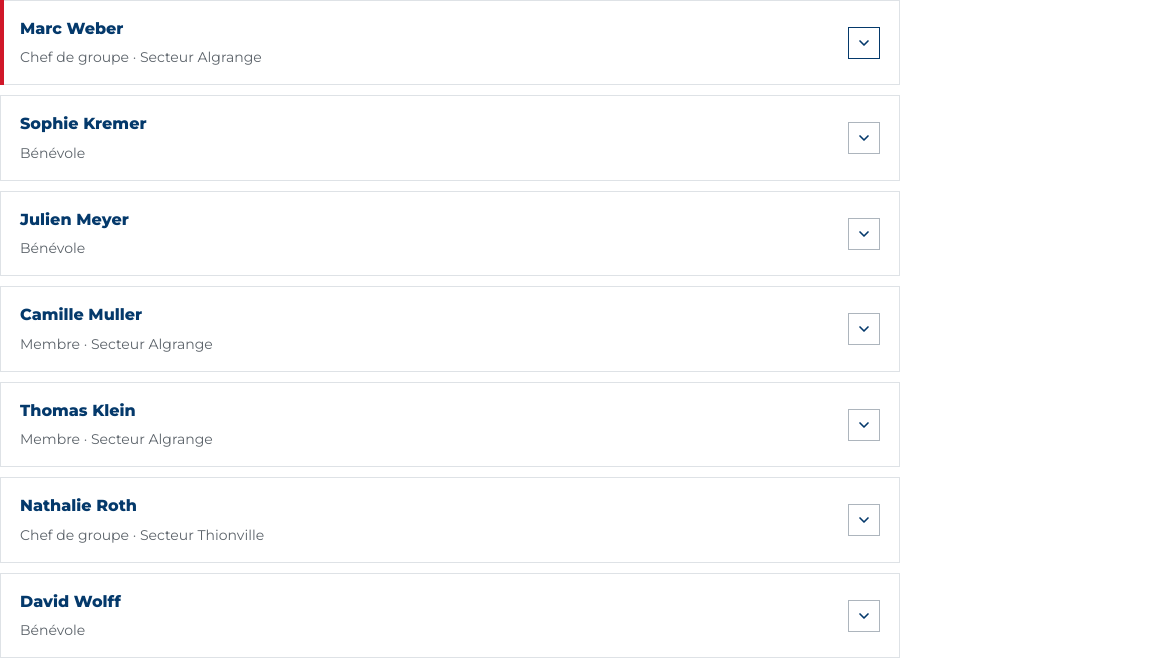
MembersAdminPage › promotes a Bénévole to Membre
Click the button "Sophie Kremer Bénévole".
click(83, 124)  # box [20,112,832,165]
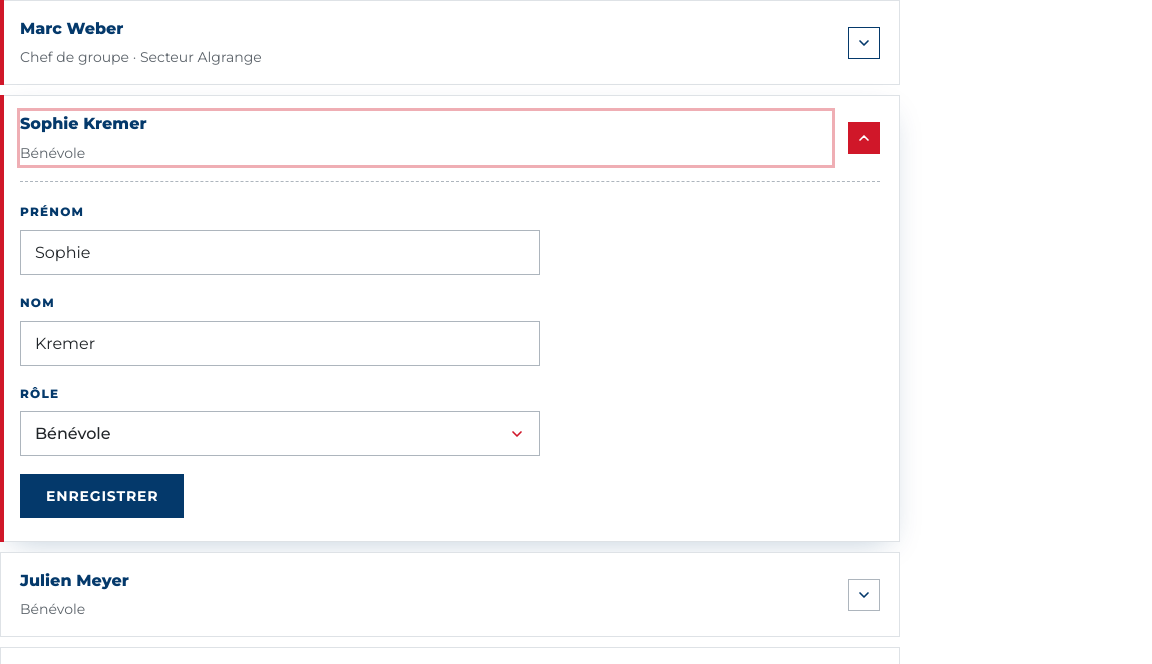
Select "Membre" in the dropdown labelled "Rôle" at [280, 434], box [20,411,540,456]
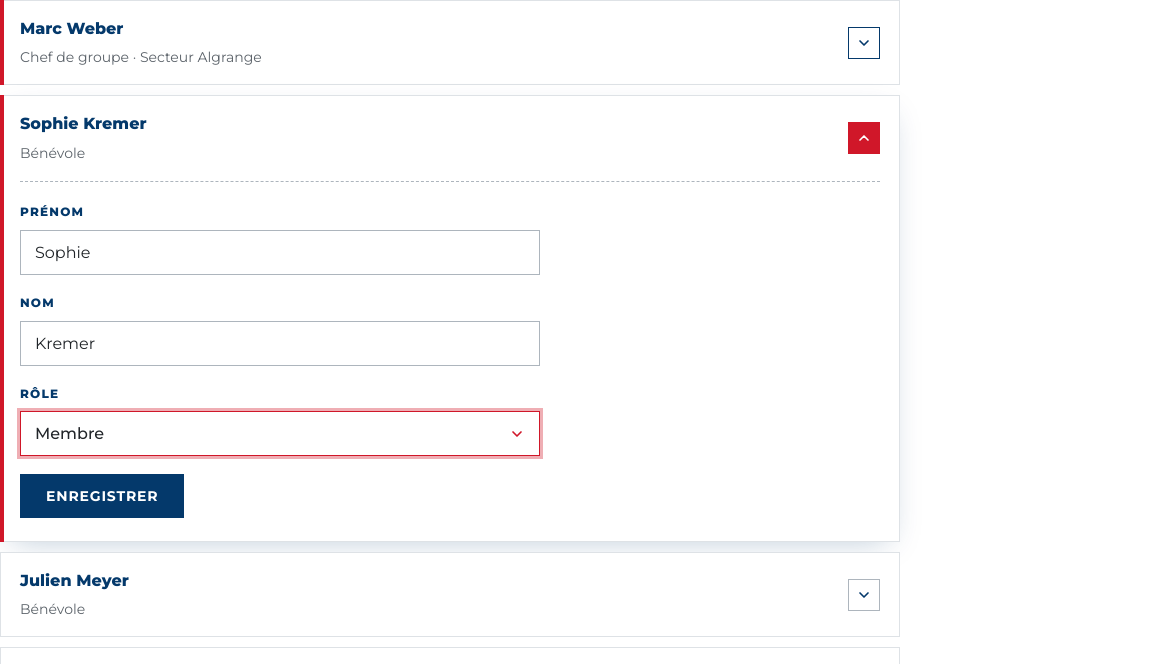
Click the button "Enregistrer".
click(102, 496)  # box [20,474,184,518]
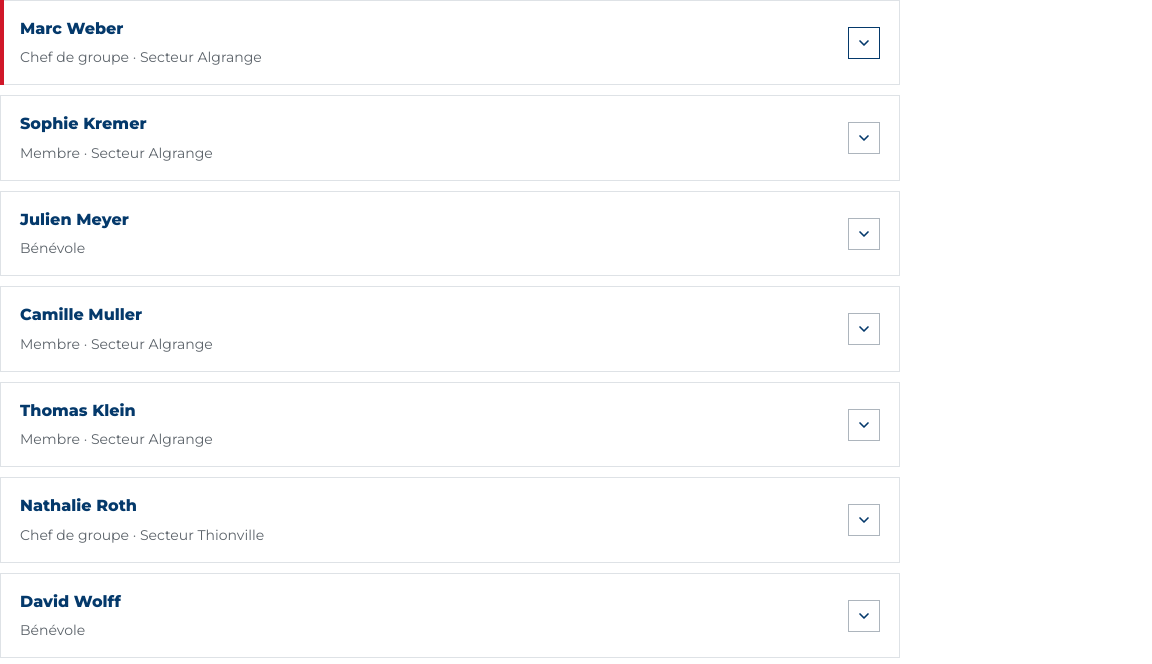
Now the button "Sophie Kremer Membre · Secteur Algrange" is shown, box [20,112,832,165]
